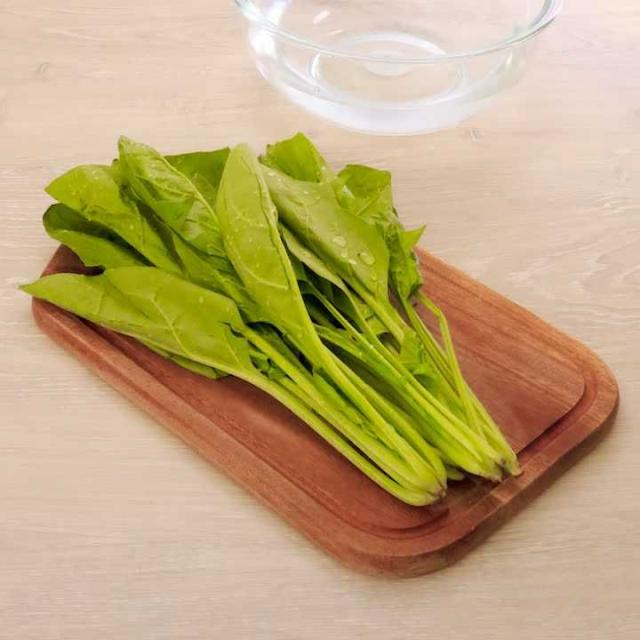Wet Waste: (10, 126, 532, 511)
